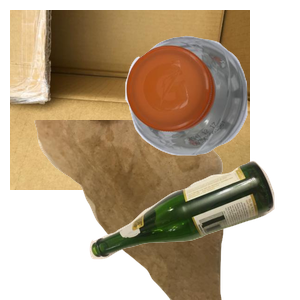cardboard: (10, 10, 250, 190)
glass: (87, 158, 300, 300)
plastic: (123, 33, 300, 181)
trash: (32, 120, 248, 300)
